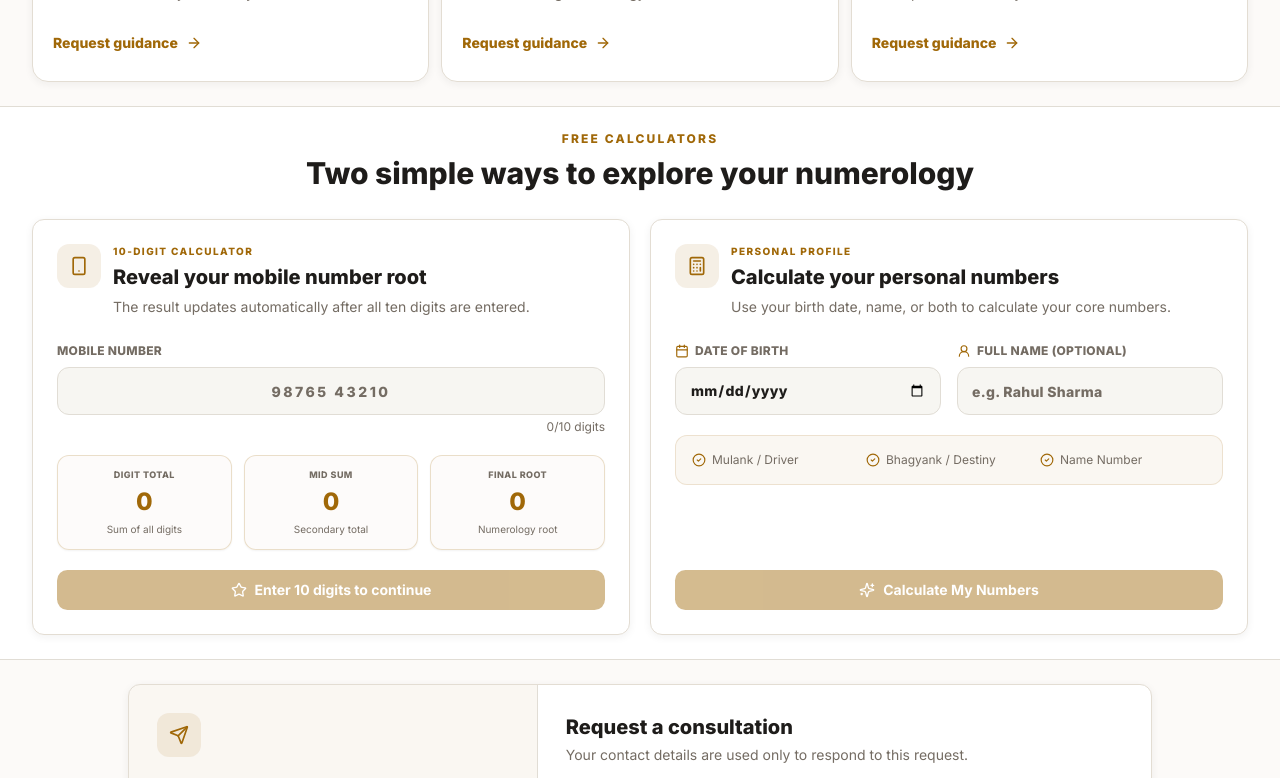
Scenario: Numerology page › uses aligned animated sections and exposes both calculator paths
The width and height of the screenshot is (1280, 778).
(page scrolled)
Expected: the heading "Reveal your mobile number root" is shown, x1=113 y1=265 x2=427 y2=289
Expected: the heading "Calculate your personal numbers" is shown, x1=731 y1=265 x2=1059 y2=289
Type "9999999999" into the field labelled "Mobile number".
click(331, 391); type("9999999999")  # box x1=57 y1=367 x2=605 y2=415
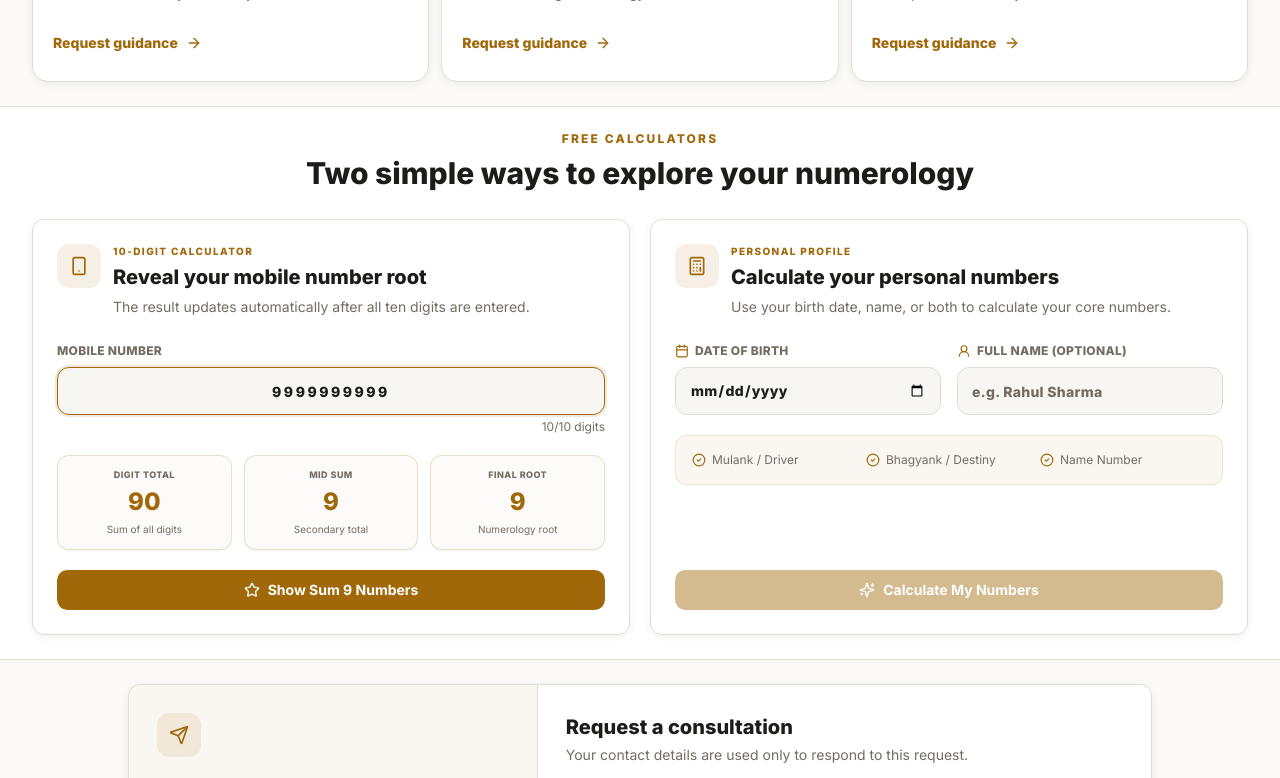
Click the button "Show Sum 9 Numbers".
click(331, 590)  # box x1=57 y1=570 x2=605 y2=610
(page scrolled)
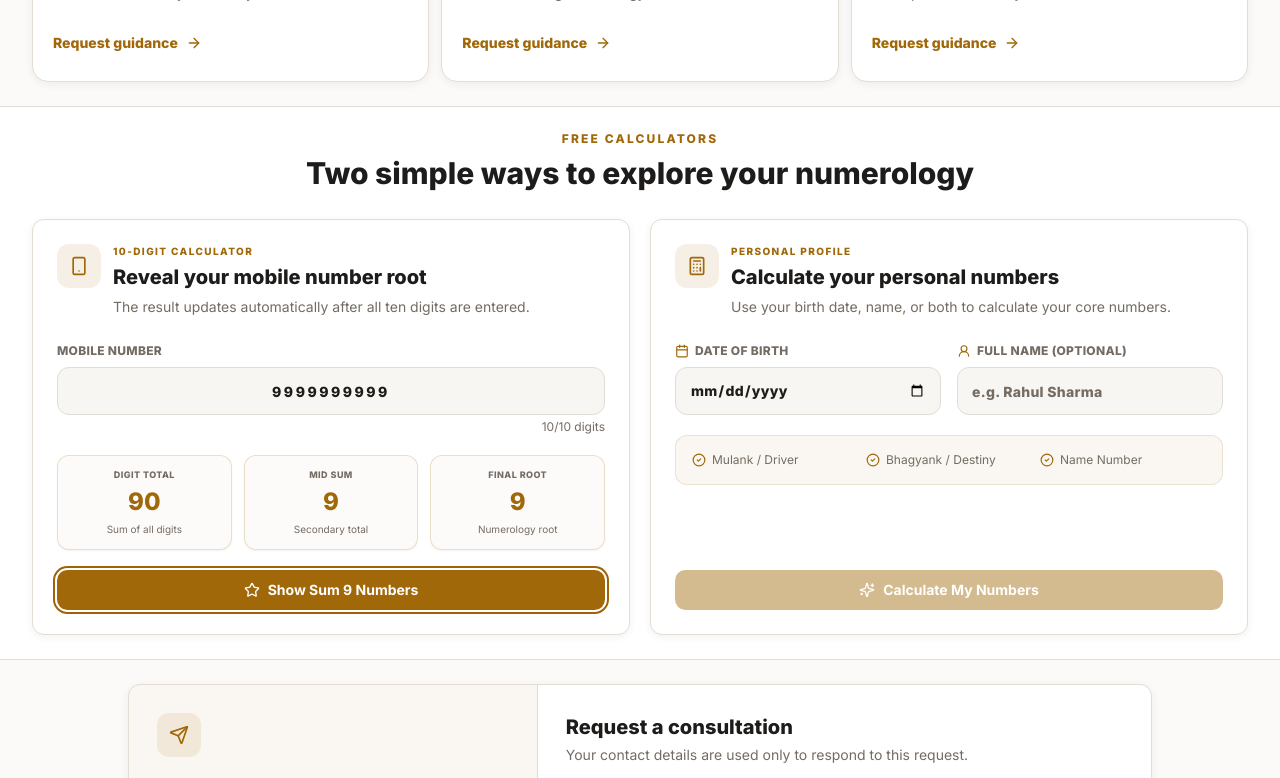
Type "Rahul Sharma" into the field labelled "Full name (optional)".
click(1090, 391); type("Rahul Sharma")  # box x1=957 y1=367 x2=1223 y2=415
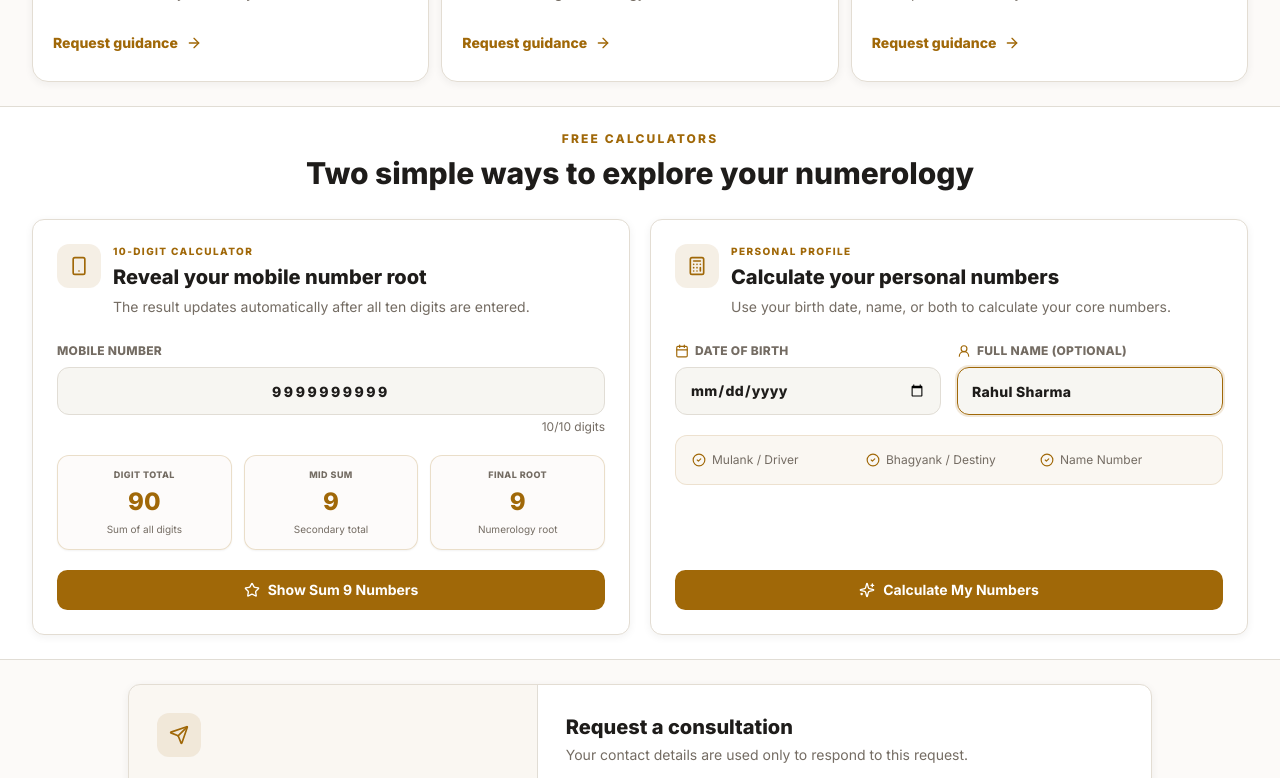
Click the button "Calculate My Numbers".
click(949, 590)  # box x1=675 y1=570 x2=1223 y2=610
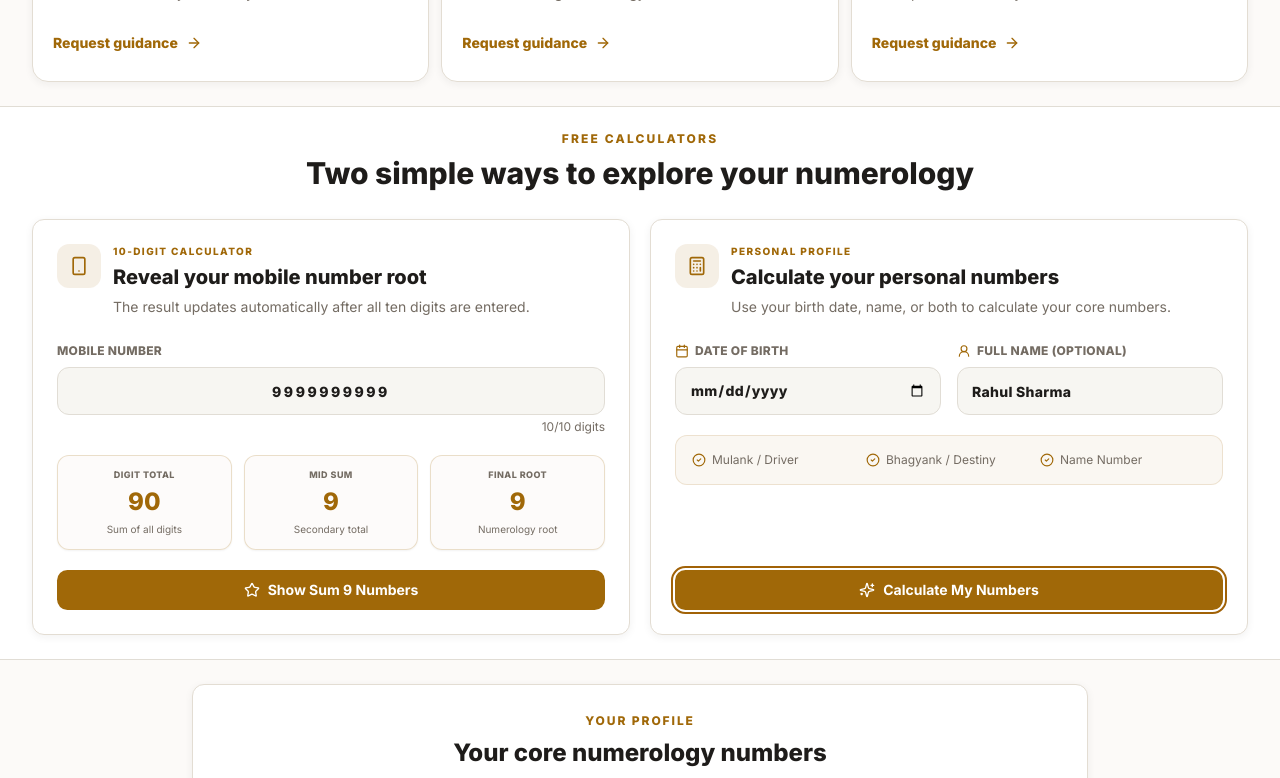
Now the heading "Your core numerology numbers" is shown, box x1=453 y1=738 x2=827 y2=766
